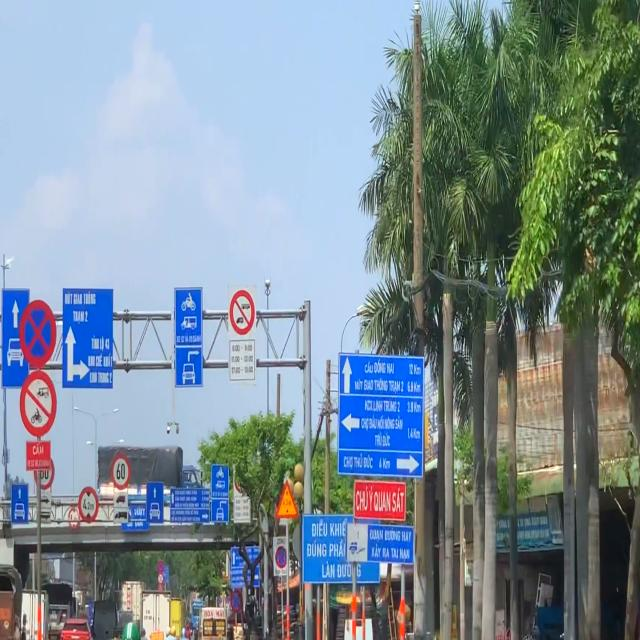Cam dung va do: (19, 299, 57, 369)
Chieu cao toi da: (76, 486, 100, 524)
Nguy hiem: (275, 478, 299, 520)
Toc do toi da: (111, 453, 130, 490)
